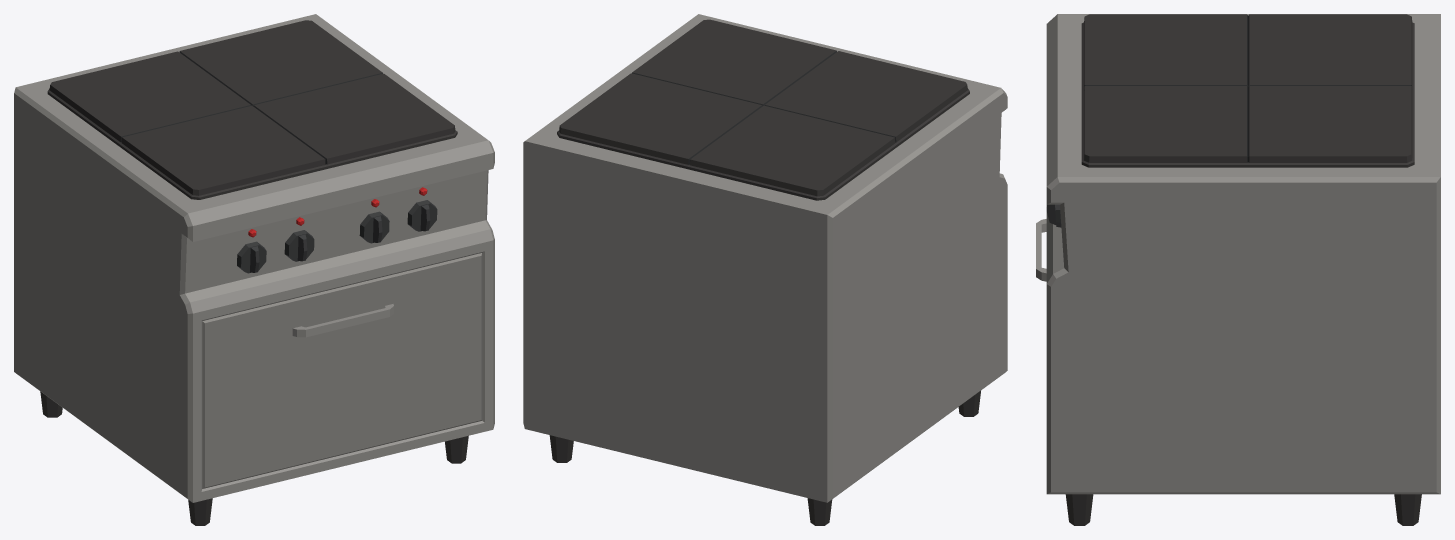
File: SM_Props_Interior_Shop_Restaurant_Kitchen_Range_01.fbx
The picture shows the model from 3 angles, left to right: view 1: azimuth 30°, elevation 25°; view 2: azimuth 150°, elevation 25°; view 3: azimuth 270°, elevation 25°; orthographic projection. The views are drawn at different scales.
Visible parts, largest first — view 1: SM_Props_Interior_Shop_Restaurant_Kitchen_Range_01, SM_Props_Interior_Shop_Restaurant_Kitchen_Range_01_Door; view 2: SM_Props_Interior_Shop_Restaurant_Kitchen_Range_01; view 3: SM_Props_Interior_Shop_Restaurant_Kitchen_Range_01, SM_Props_Interior_Shop_Restaurant_Kitchen_Range_01_Door.
Part boxes in pixels (box(x1,y1,x2,y2)): SM_Props_Interior_Shop_Restaurant_Kitchen_Range_01: box(14, 14, 494, 525); SM_Props_Interior_Shop_Restaurant_Kitchen_Range_01_Door: box(202, 253, 482, 488); SM_Props_Interior_Shop_Restaurant_Kitchen_Range_01: box(523, 14, 1007, 525); SM_Props_Interior_Shop_Restaurant_Kitchen_Range_01: box(1046, 14, 1440, 525); SM_Props_Interior_Shop_Restaurant_Kitchen_Range_01_Door: box(1036, 219, 1046, 281).
Size of the model in its own units: 90 by 92.54 by 92.43.
